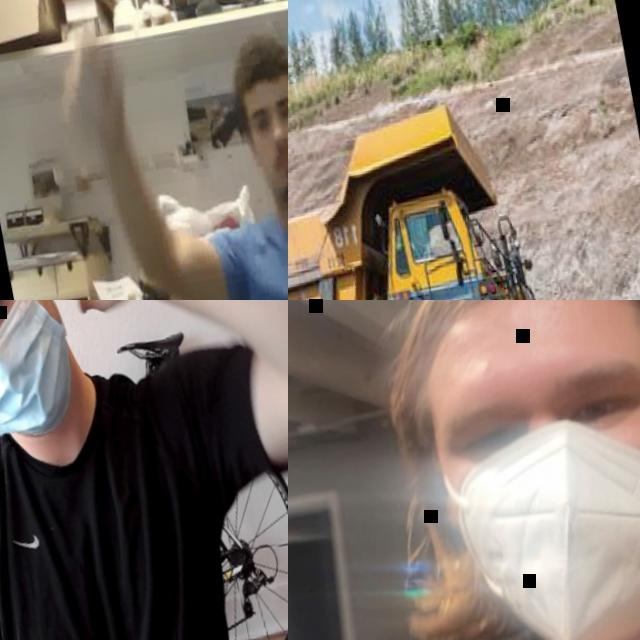Mask: (435, 396, 640, 640), (0, 300, 86, 446)
NO-Hardhat: (397, 300, 640, 401), (226, 30, 288, 98)
NO-Mask: (263, 141, 288, 201)
NO-Safety Vest: (0, 383, 235, 640), (370, 552, 640, 640), (227, 206, 288, 300)
Person: (288, 300, 640, 640), (0, 300, 288, 640), (34, 0, 288, 300), (391, 225, 430, 275)
Safety Vest: (396, 235, 426, 264)
machinery: (288, 79, 601, 300)
